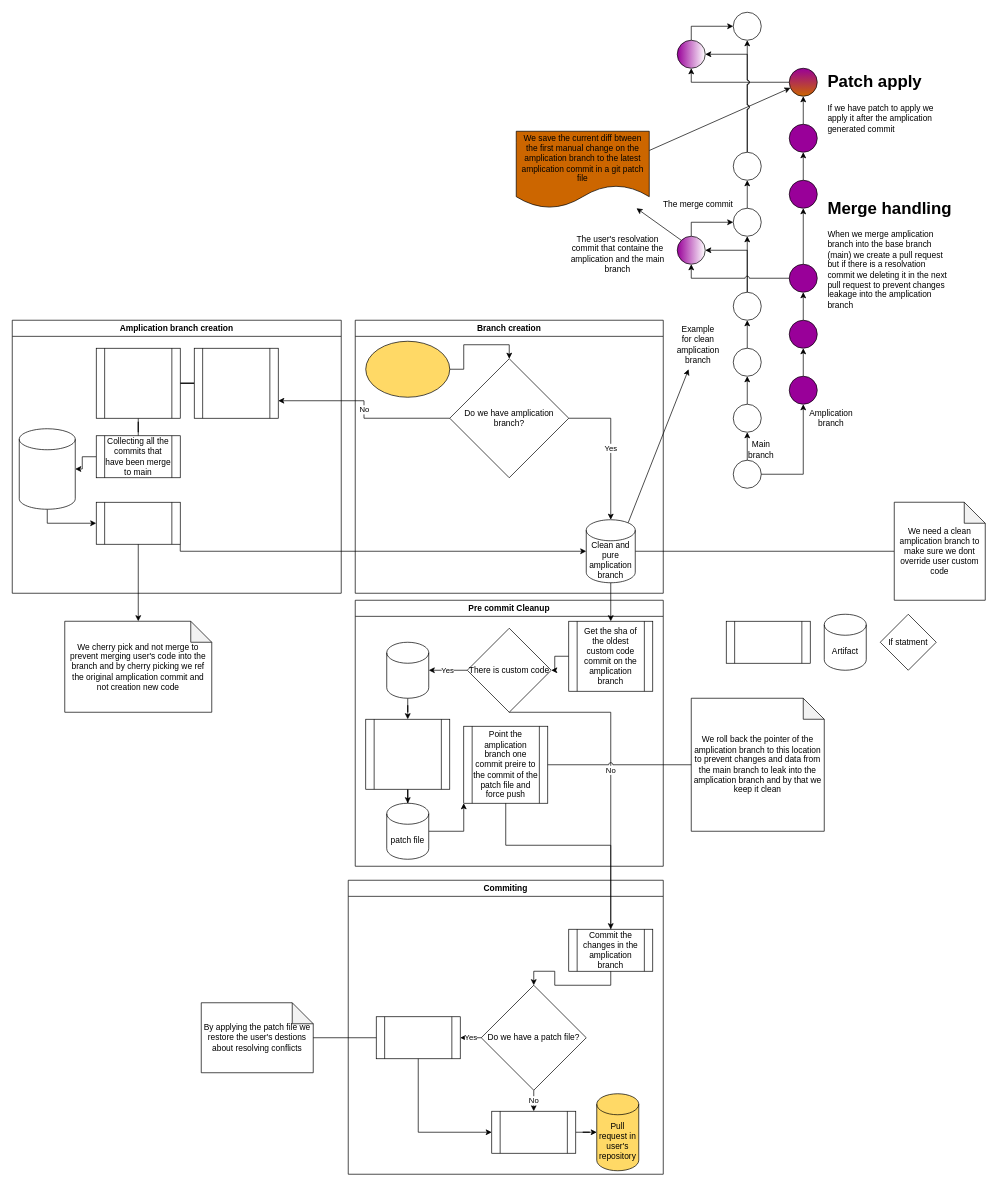
Image size: 998x1187. Some labels were removed from this diagram. The centre of each missing label's shape, as x and y in pixels:
"Apply the patch file" goes at point 418,1037.
"Cherry pick all the commits into the amplication branch" goes at point 138,523.
"Created diff between the oldest commit to the current one and save it as a patch" goes at point 407,754.
"Creating an amplication branch by collecting all the amplication created commits" goes at point 236,383.
"Creation new amplication branch from the init commit of the default branch" goes at point 138,383.
"List of all the shas' of the MERGED ampliation's commits" goes at point 47,468.
"Oldest custom code sha" goes at point 407,670.
"Open a pull request" goes at point 533,1132.
"Proccess" goes at point 768,642.
"Pull request Start" goes at point 407,369.
